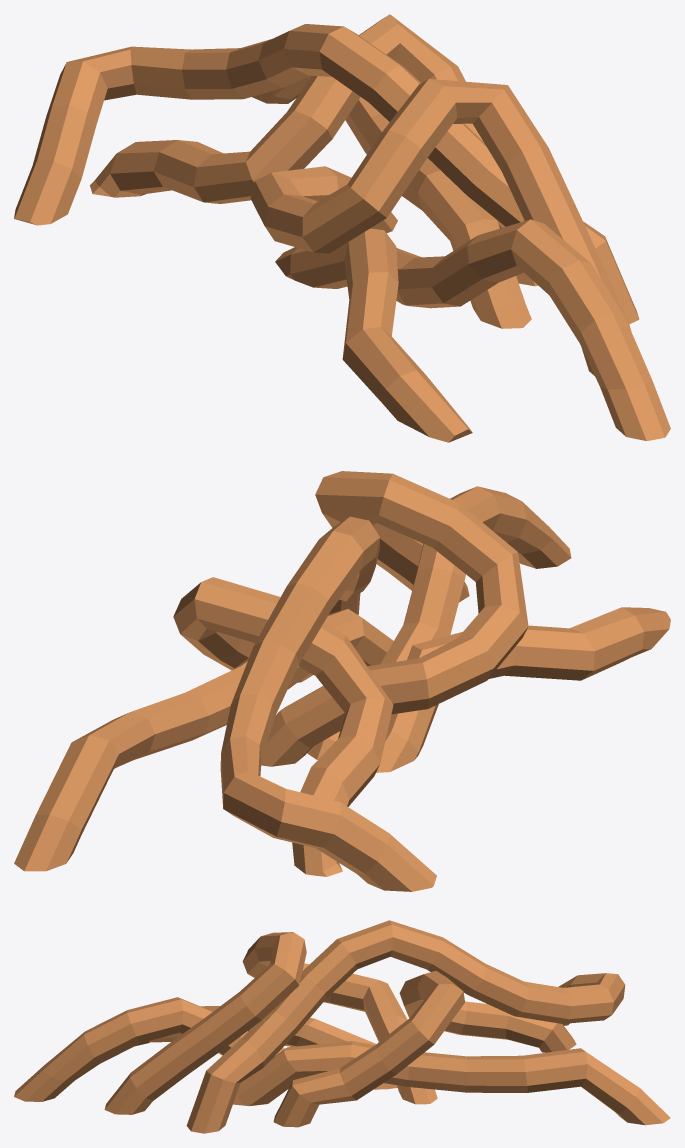
The model's file is ENV_Roots_Placeholder2.fbx.
3 views of the same model, one above another, from view 1: azimuth 30°, elevation 25°; view 2: azimuth 150°, elevation 25°; view 3: azimuth 270°, elevation 25° (orthographic). The views are drawn at different scales.
Parts seen in each view (by area): view 1: Root.011; view 2: Root.011; view 3: Root.011.
Boxes of the visible parts, x1,y1,x2,y2 form: Root.011: (14, 14, 670, 442); Root.011: (14, 471, 670, 891); Root.011: (14, 920, 670, 1133).
Size of the model in its own units: 359 by 164 by 93.96.
